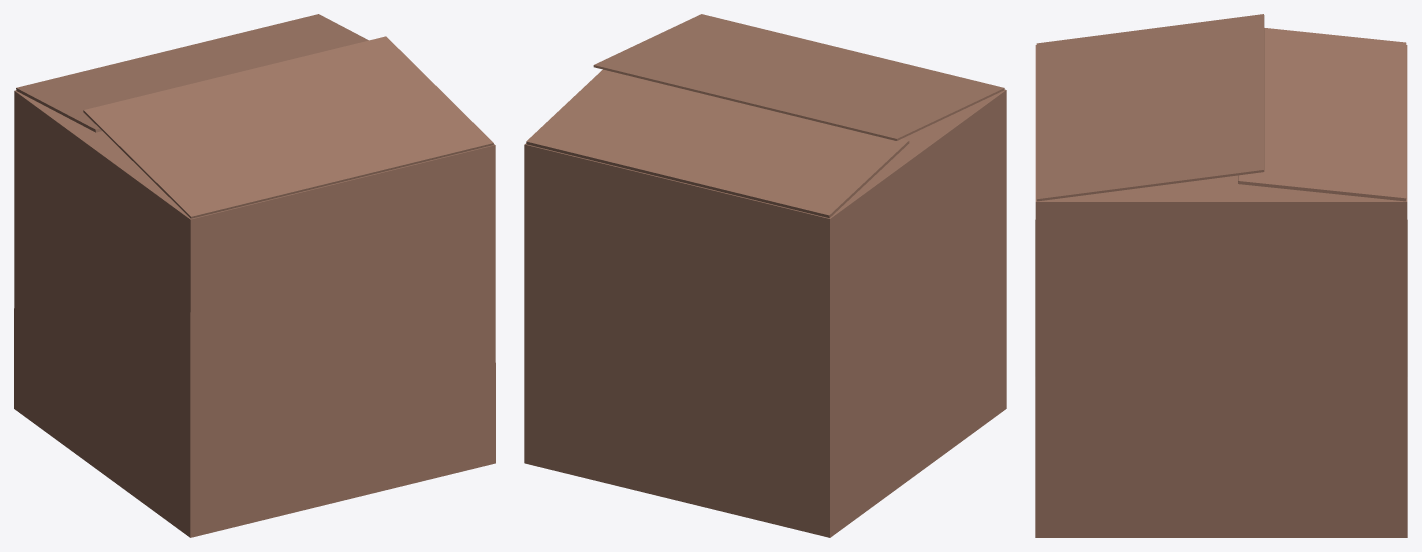
The model's file is Boxclosed_01.fbx.
3 views of the same model, side by side, from view 1: azimuth 30°, elevation 25°; view 2: azimuth 150°, elevation 25°; view 3: azimuth 270°, elevation 25° (orthographic). The views are drawn at different scales.
Parts seen in each view (by area): view 1: pasted__pCube1; view 2: pasted__pCube1; view 3: pasted__pCube1.
Part boxes in pixels (<box>): pasted__pCube1: <box>14,14,495,537</box>; pasted__pCube1: <box>524,14,1006,537</box>; pasted__pCube1: <box>1035,14,1407,537</box>.
Bounding box in the file's own units: 101 × 110 × 101.
